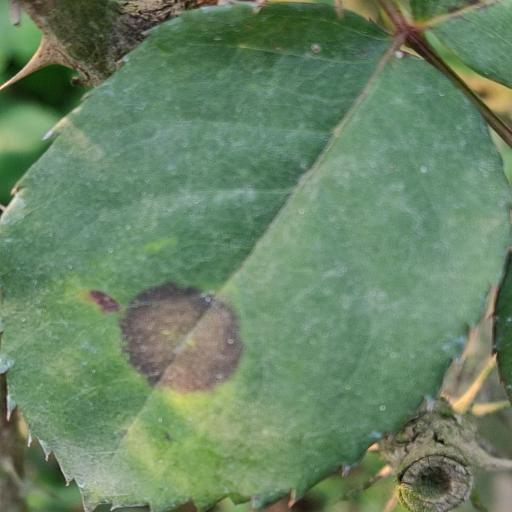black_spot: (0, 4, 510, 512)
